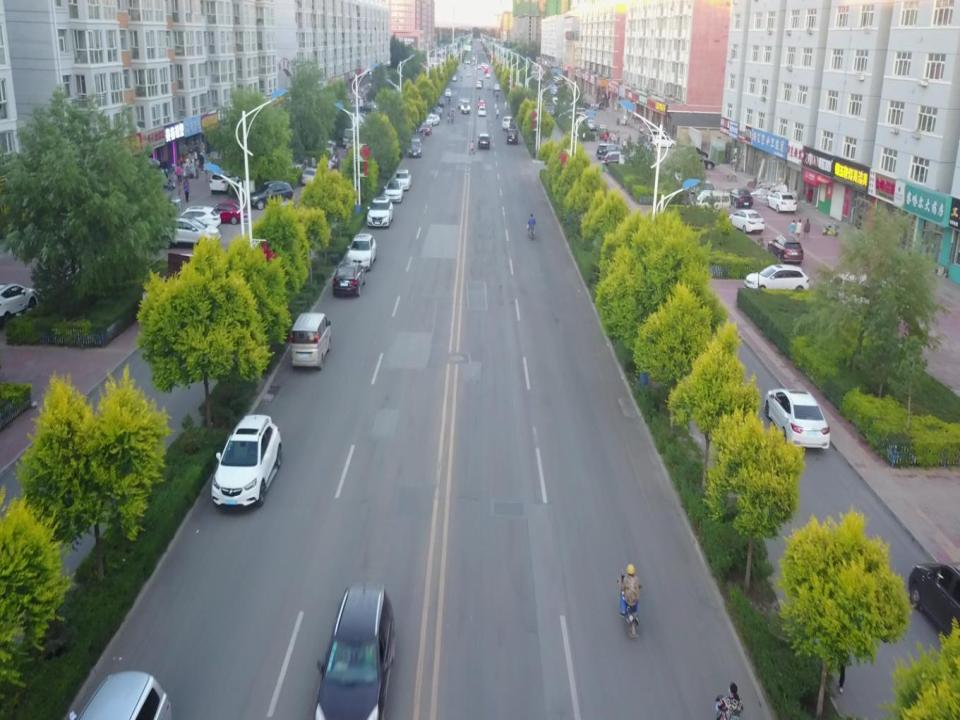car: (313, 580, 396, 720), (210, 412, 284, 509), (76, 668, 176, 720), (905, 552, 960, 646), (762, 384, 832, 451), (287, 309, 333, 369), (744, 260, 811, 295), (158, 214, 220, 245), (0, 281, 40, 319), (246, 180, 295, 210), (767, 231, 805, 268), (170, 204, 223, 229), (333, 259, 367, 296), (347, 232, 378, 271), (727, 209, 765, 234), (366, 197, 393, 229), (209, 167, 242, 193), (764, 189, 798, 213), (207, 201, 244, 223), (673, 145, 709, 162), (728, 187, 755, 208), (382, 178, 404, 203), (682, 154, 715, 170), (595, 143, 624, 159), (393, 168, 412, 192), (653, 132, 677, 148), (301, 164, 319, 185), (648, 129, 672, 143), (409, 137, 421, 158), (501, 115, 516, 130), (478, 132, 490, 148), (507, 128, 519, 144), (419, 122, 432, 136), (424, 114, 440, 125), (586, 118, 596, 130), (477, 105, 486, 117), (431, 106, 441, 116), (444, 87, 452, 97), (437, 96, 444, 106), (494, 83, 501, 90), (478, 99, 486, 105), (475, 81, 481, 87), (451, 74, 456, 81), (466, 70, 471, 76), (484, 67, 489, 73), (477, 64, 481, 69), (482, 62, 486, 67), (466, 58, 470, 63)
van: (692, 187, 730, 211)
